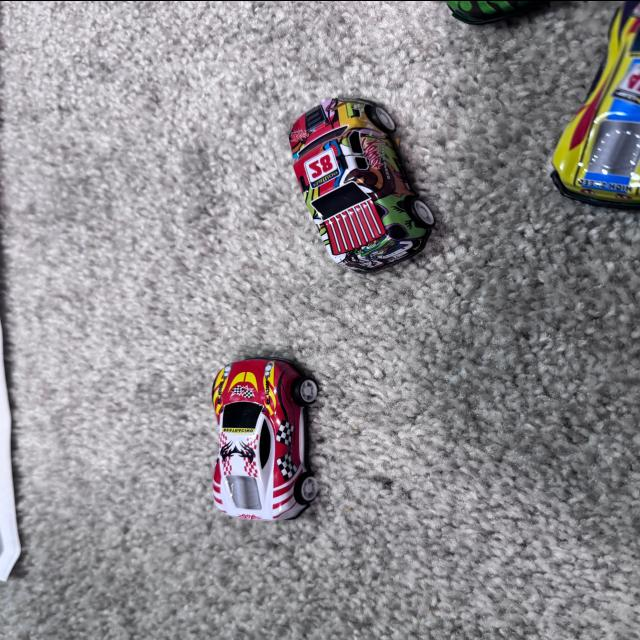Car: (253, 66, 471, 304), (538, 0, 640, 300), (174, 308, 325, 508)
